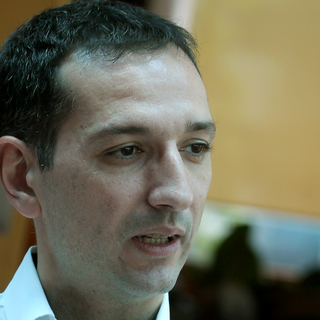eye: (100, 140, 151, 164), (176, 135, 216, 163)
